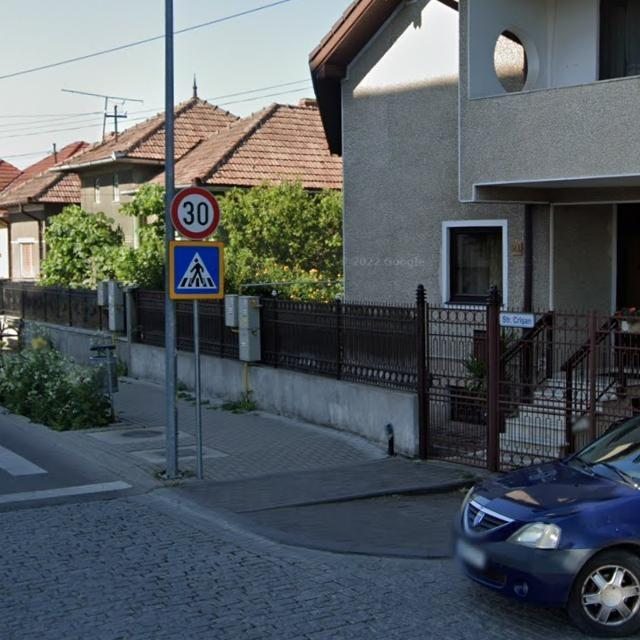forb_speed_over_30: (171, 187, 220, 240)
info_crosswalk: (168, 241, 225, 300)
